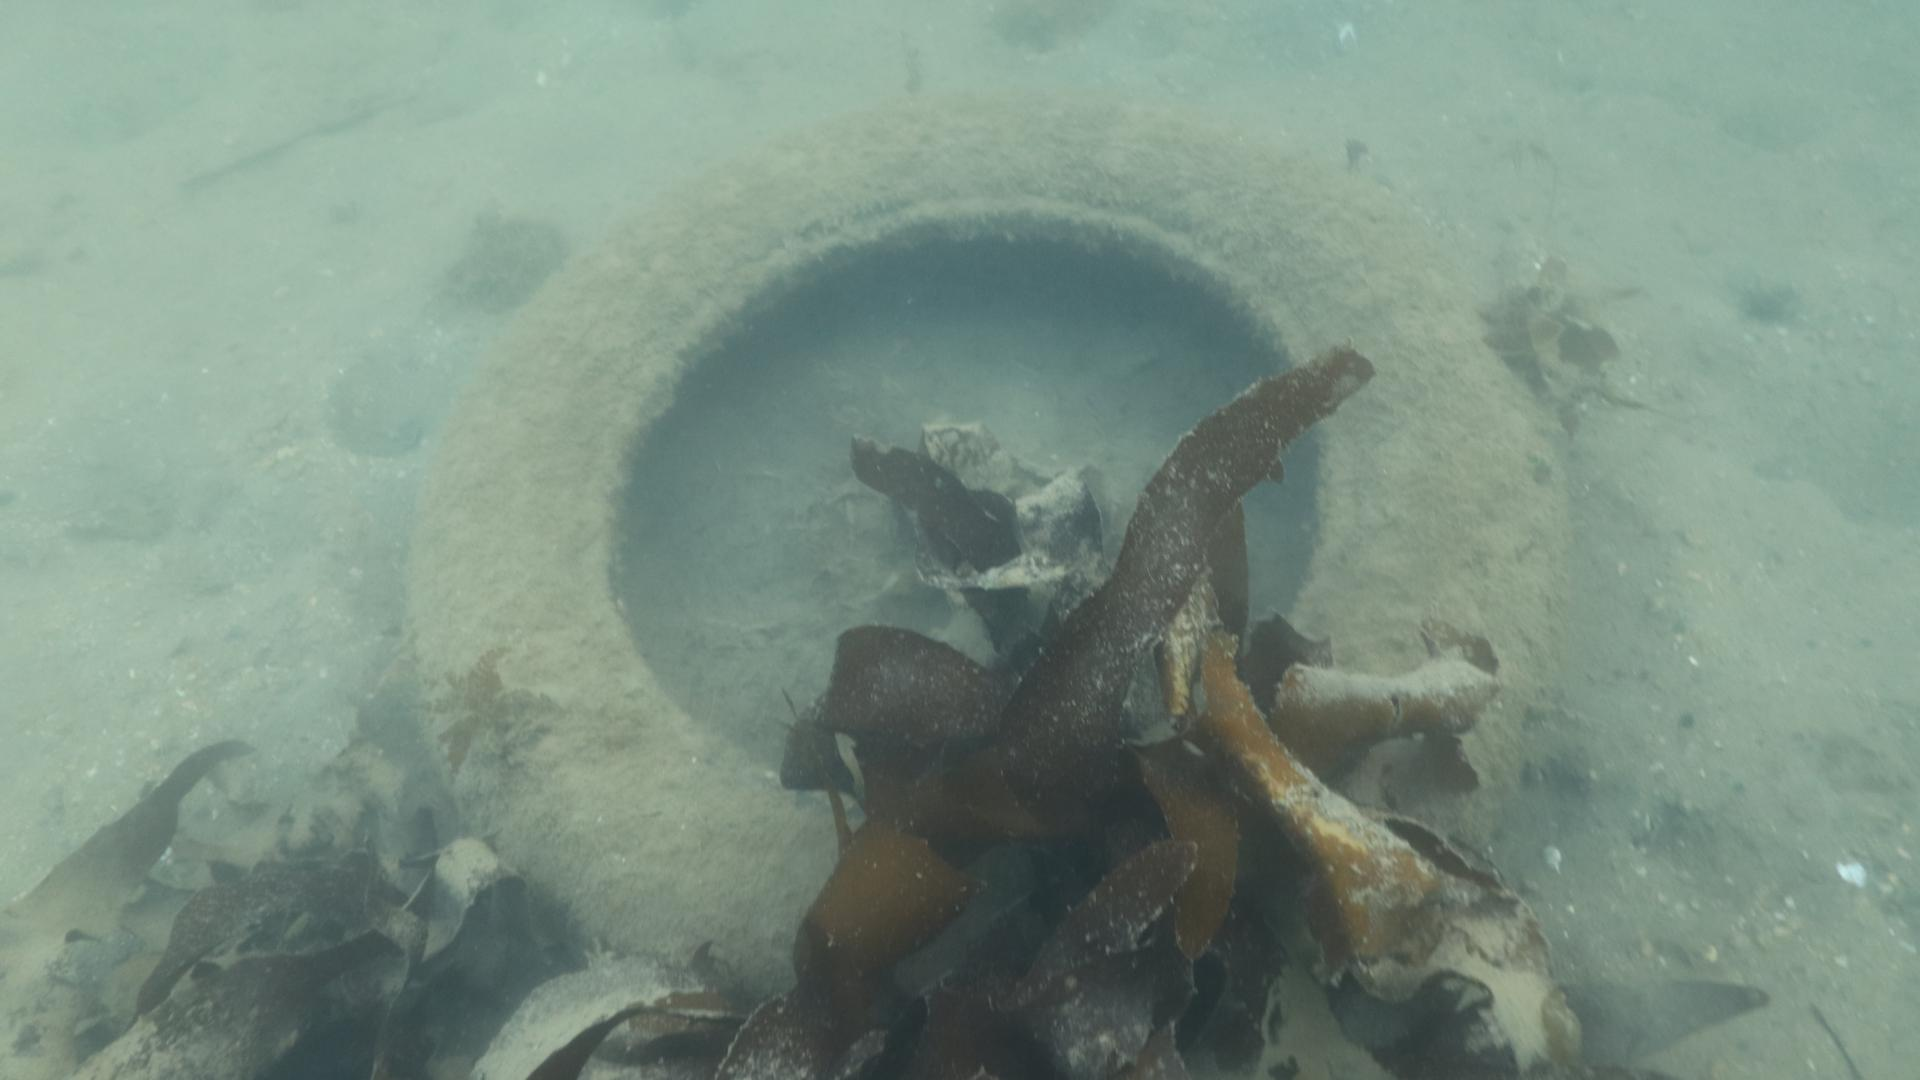tire: (404, 86, 1567, 1011)
